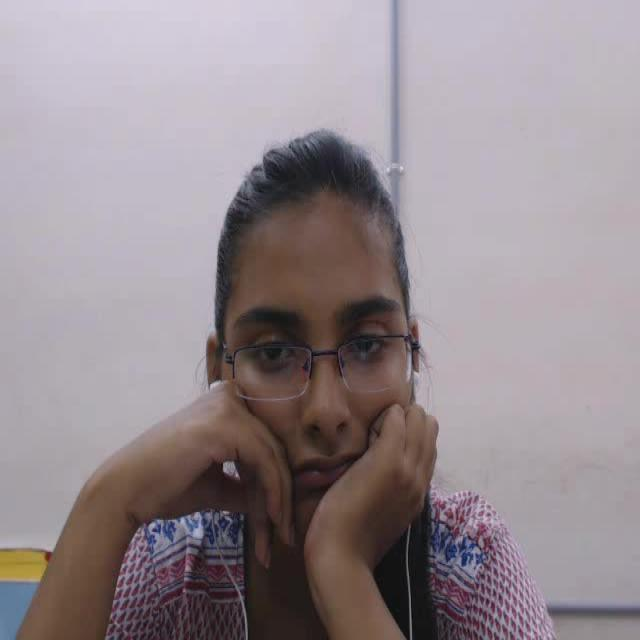Bored: (184, 79, 471, 580)
